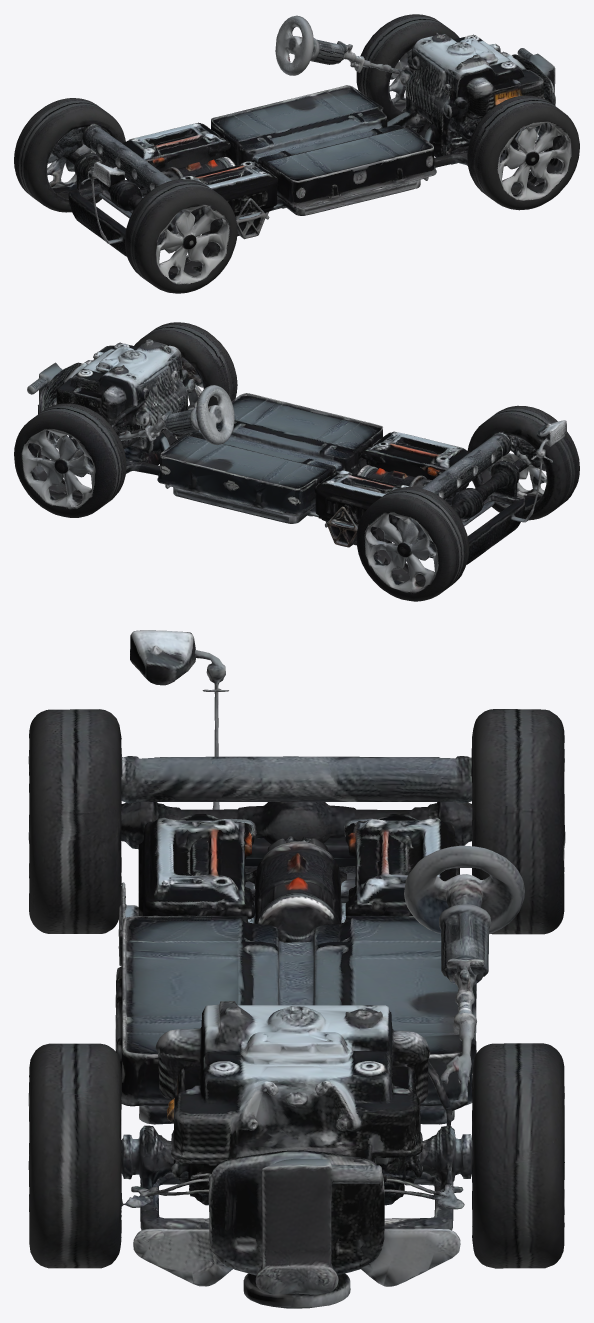
Rendered from sasis-mesin-lite.glb.
The picture shows the model from 3 angles, top to bottom: view 1: azimuth 30°, elevation 25°; view 2: azimuth 150°, elevation 25°; view 3: azimuth 270°, elevation 25°; orthographic projection. The views are drawn at different scales.
Bounding box in the file's own units: 1.9 × 0.5386 × 0.9046.
1 material, 1 textured.
